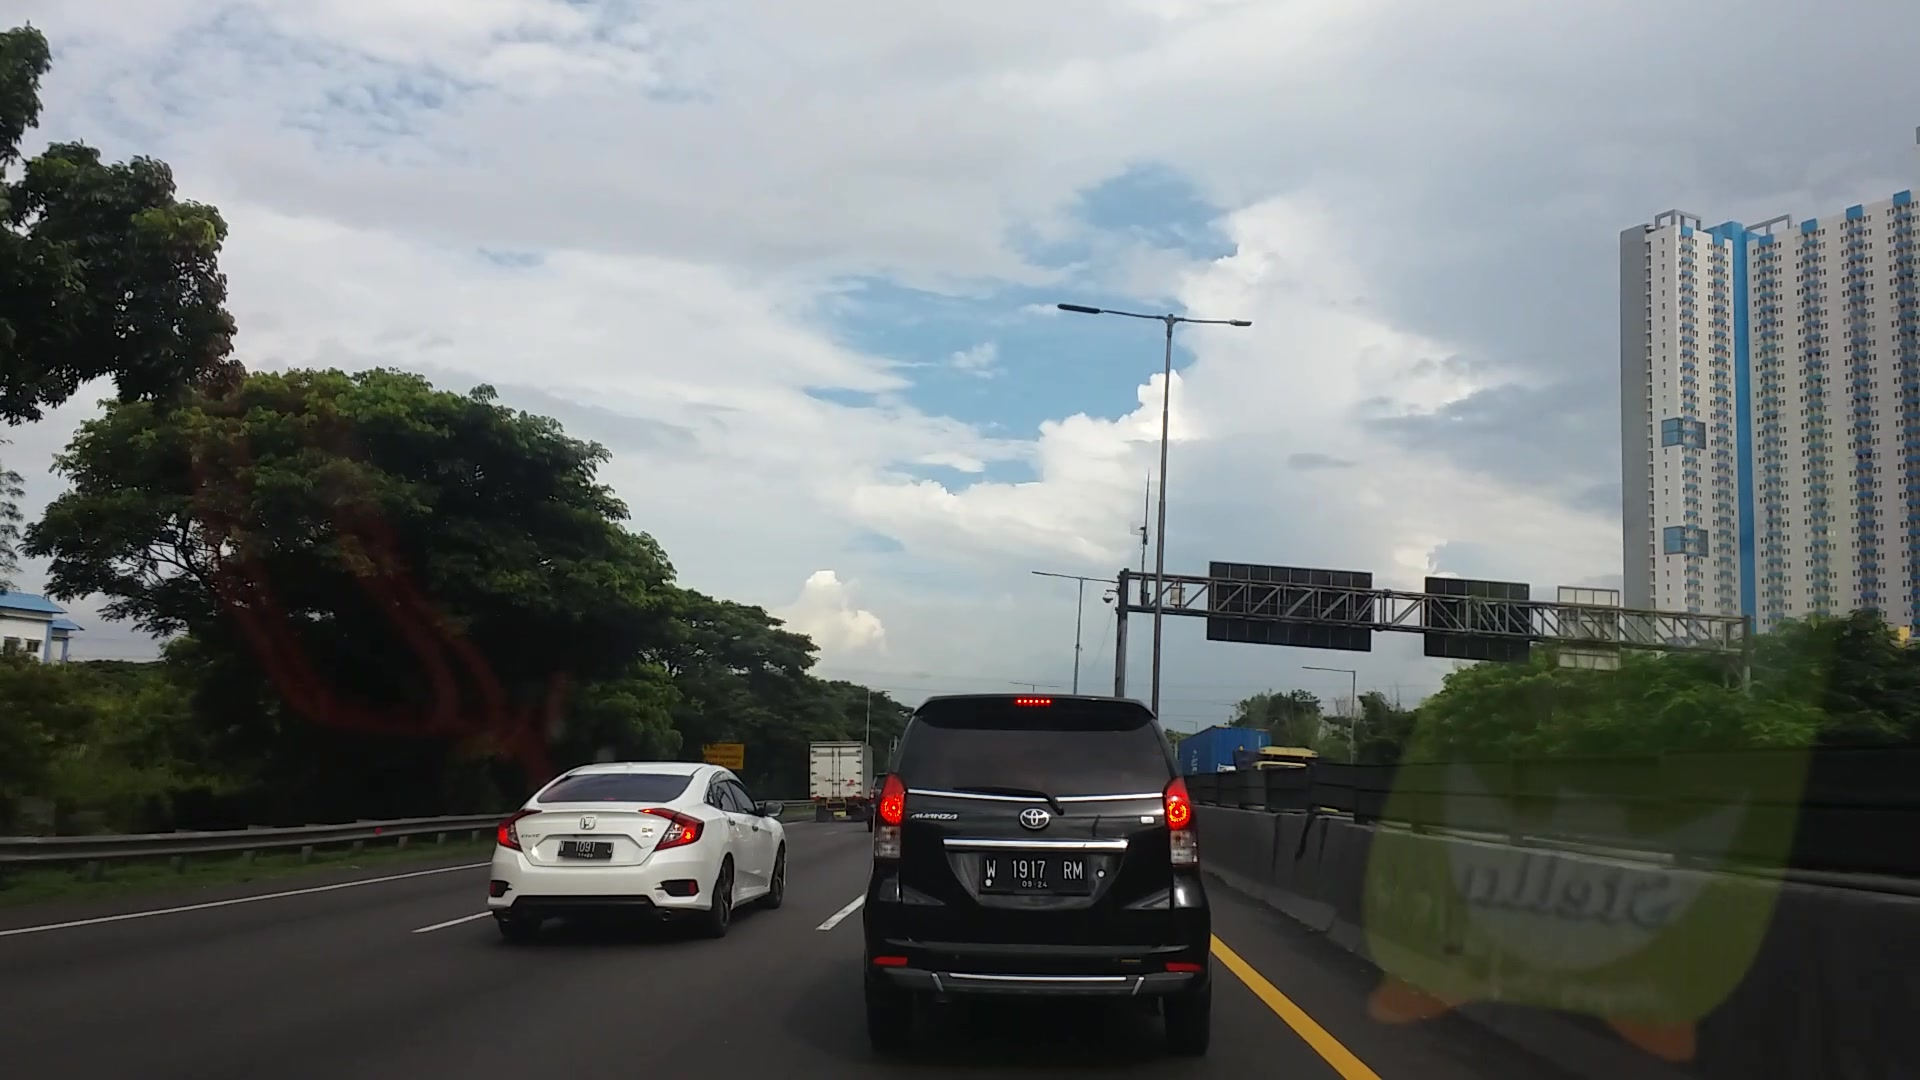plate_positive: (981, 856, 1085, 890)
